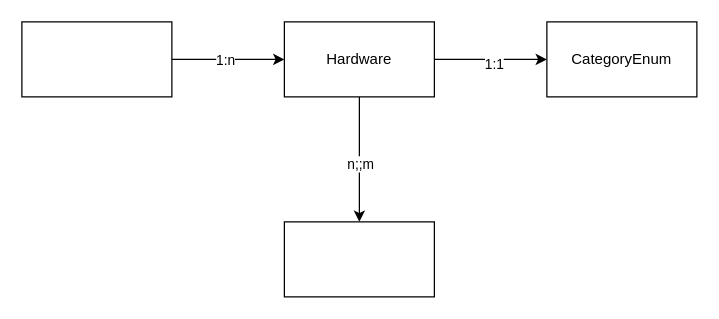
This 719x319 diagram has some shape labels left out. The shapes that lost their labels are listed below. From the top down, each one's centre as x and y in pixels, then its label:
At point 96,59: "User".
At point 358,259: "Rental".
